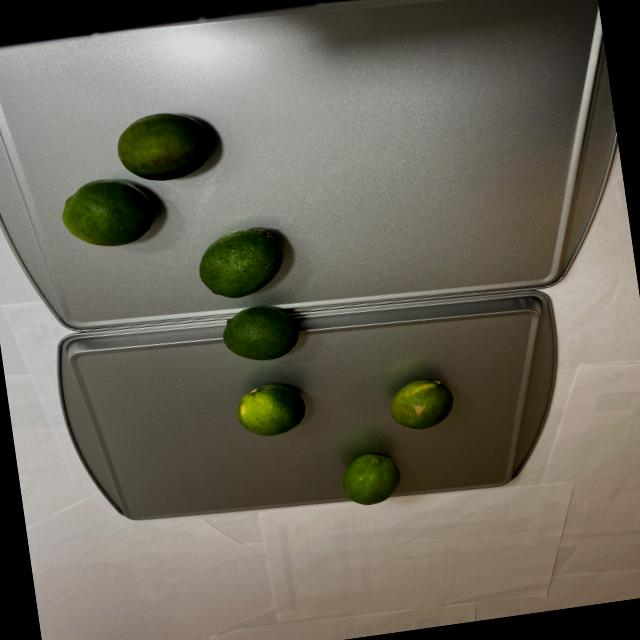lemon: (45, 72, 468, 542)
